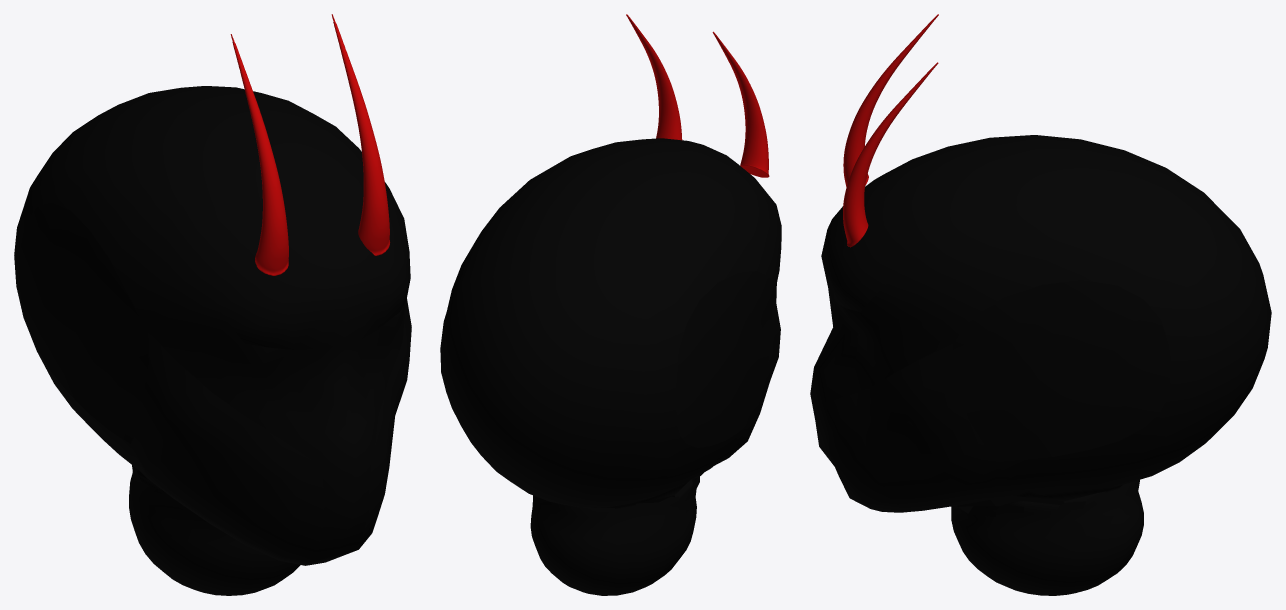
File: horn_2.glb
The picture shows the model from 3 angles, left to right: view 1: azimuth 30°, elevation 25°; view 2: azimuth 150°, elevation 25°; view 3: azimuth 270°, elevation 25°; orthographic projection. The views are drawn at different scales.
Parts seen in each view (by area): view 1: Helmet_Mask, Cone, Cone.001; view 2: Helmet_Mask, Cone, Cone.001; view 3: Helmet_Mask, Cone.001, Cone.
Part boxes in pixels (bbox=[...]): Helmet_Mask: bbox=[14, 86, 411, 595]; Cone: bbox=[230, 34, 288, 275]; Cone.001: bbox=[331, 14, 390, 255]; Helmet_Mask: bbox=[440, 138, 781, 595]; Cone: bbox=[712, 31, 769, 177]; Cone.001: bbox=[626, 14, 682, 140]; Helmet_Mask: bbox=[810, 135, 1271, 595]; Cone.001: bbox=[843, 62, 938, 247]; Cone: bbox=[843, 14, 938, 187].
Size of the model in its own units: 1.16 by 2.42 by 1.84.
